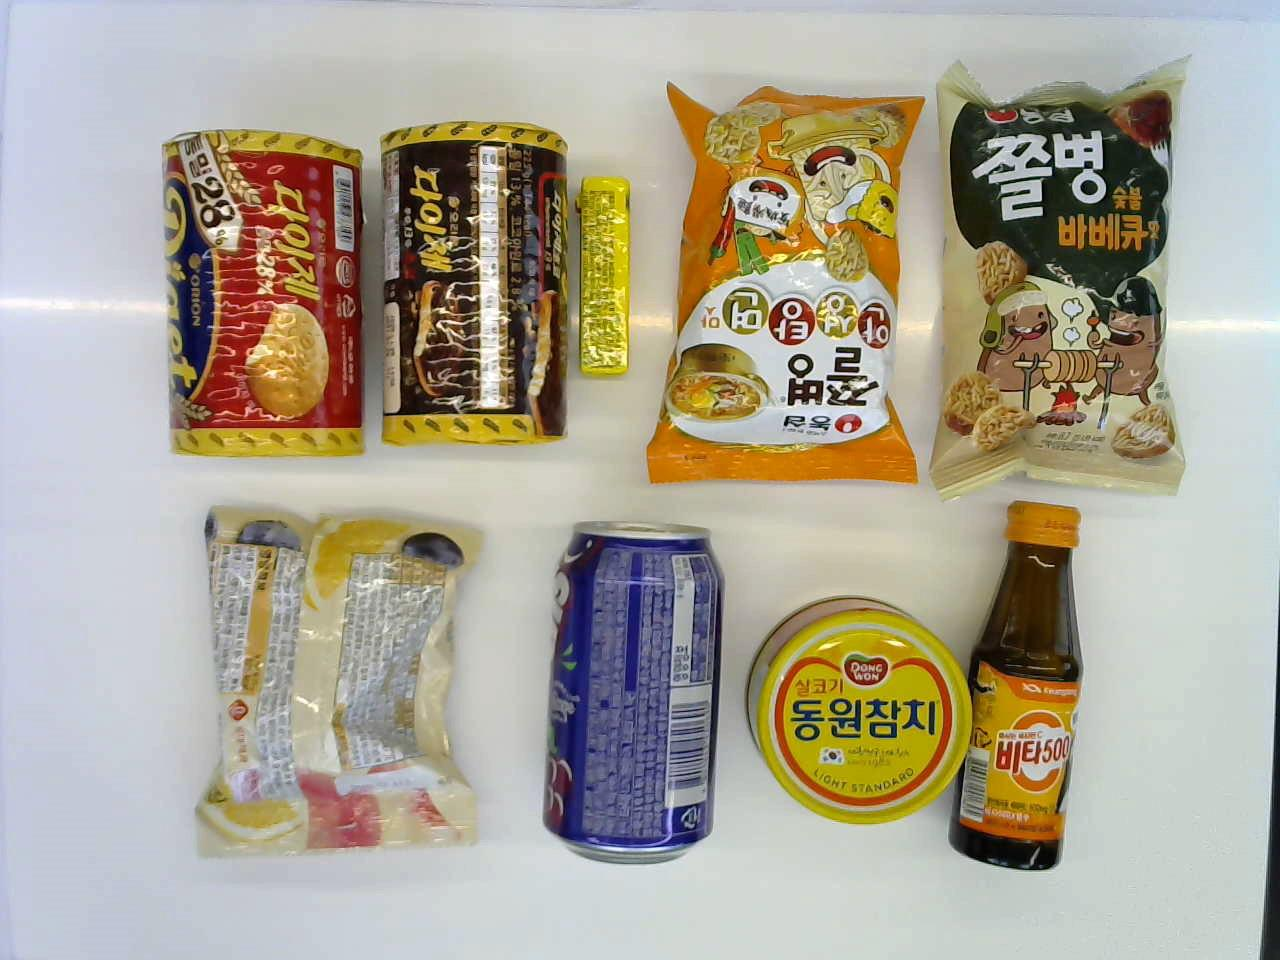diget_choco: (367, 121, 590, 450)
diget_ori: (147, 130, 370, 459)
gumi_gumi: (188, 494, 478, 856)
jjolbyung_noodle: (646, 69, 937, 500)
jjolbyung_ori: (918, 62, 1208, 493)
juicyfresh: (572, 179, 636, 384)
tuna: (758, 591, 969, 828)
vita500: (971, 499, 1089, 893)
welchs: (540, 510, 746, 873)
